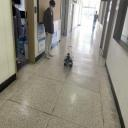cart: (63, 56, 74, 67)
